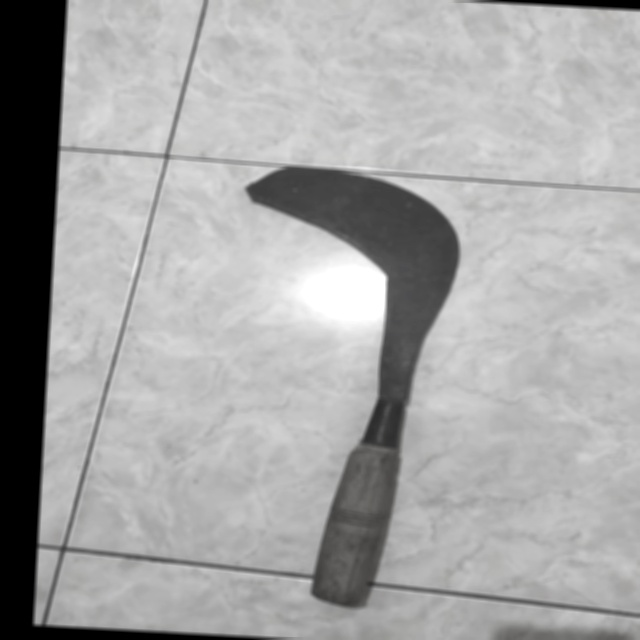Sharp-Object: (212, 102, 485, 616)
